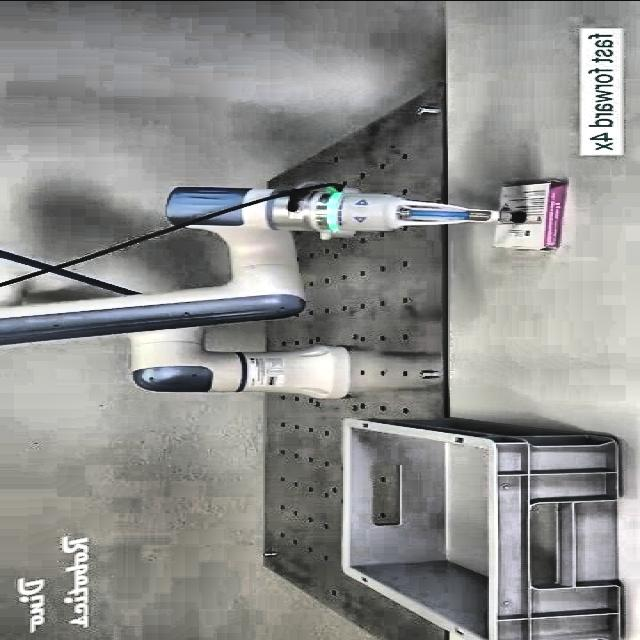robot: (0, 177, 564, 398)
